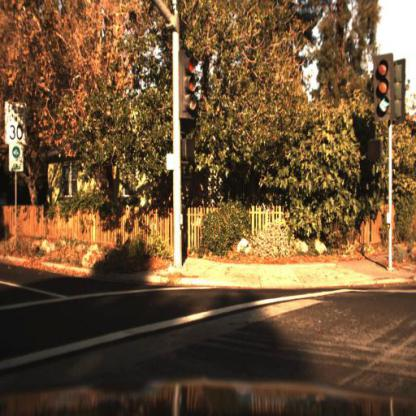trafficLight: (181, 47, 199, 123)
